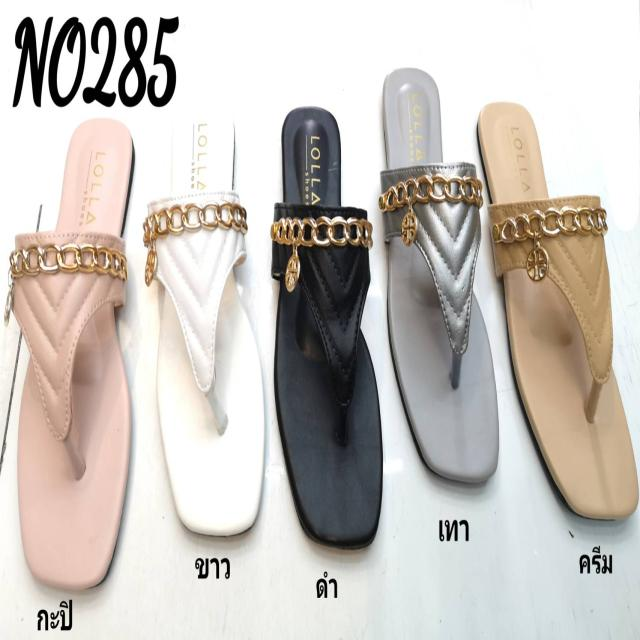black: (275, 108, 381, 549)
cream: (478, 99, 640, 527)
grey: (382, 64, 498, 483)
kapi: (18, 114, 131, 592)
white: (156, 103, 262, 532)
